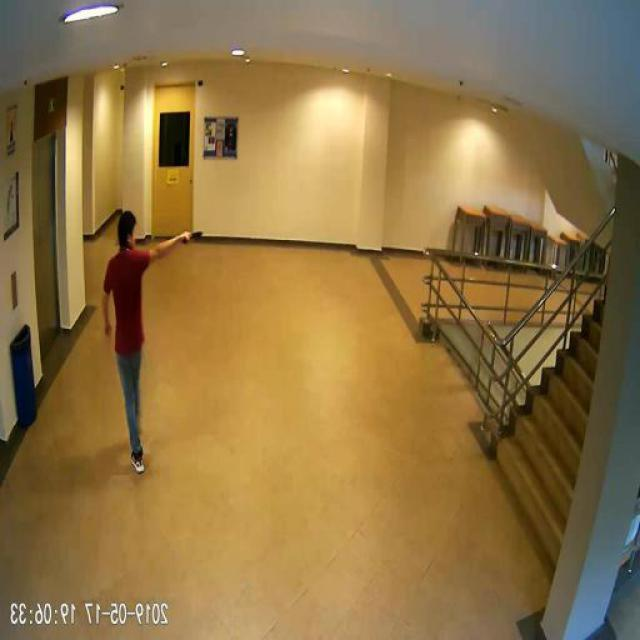weapon: (182, 232, 204, 246)
